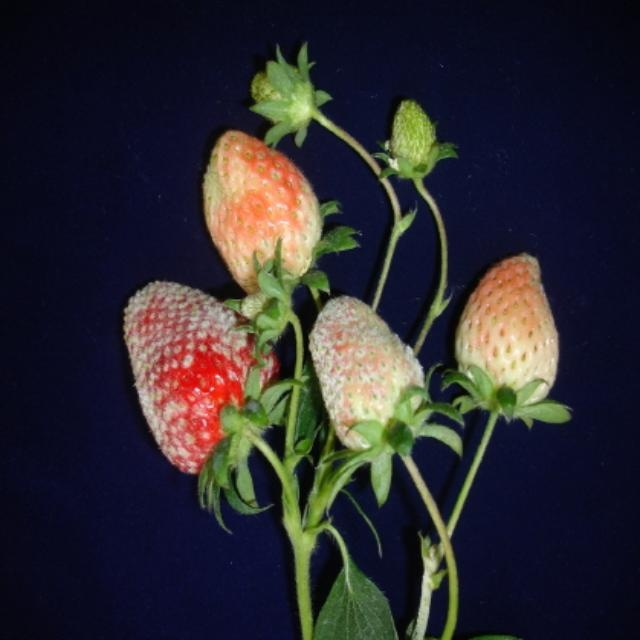Powdery Mildew Fruit: (123, 281, 280, 475), (307, 296, 428, 459)
